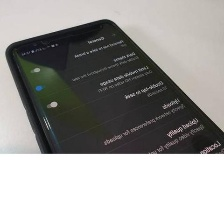phone: (2, 16, 223, 204)
